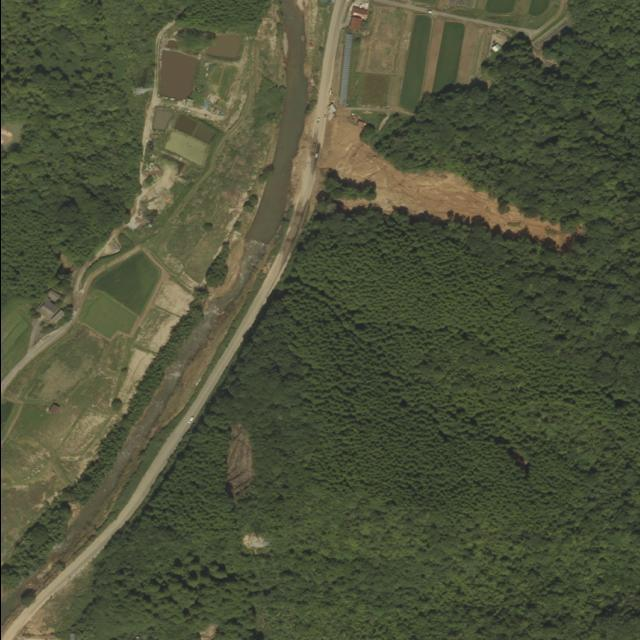landslide: (318, 120, 571, 246)
